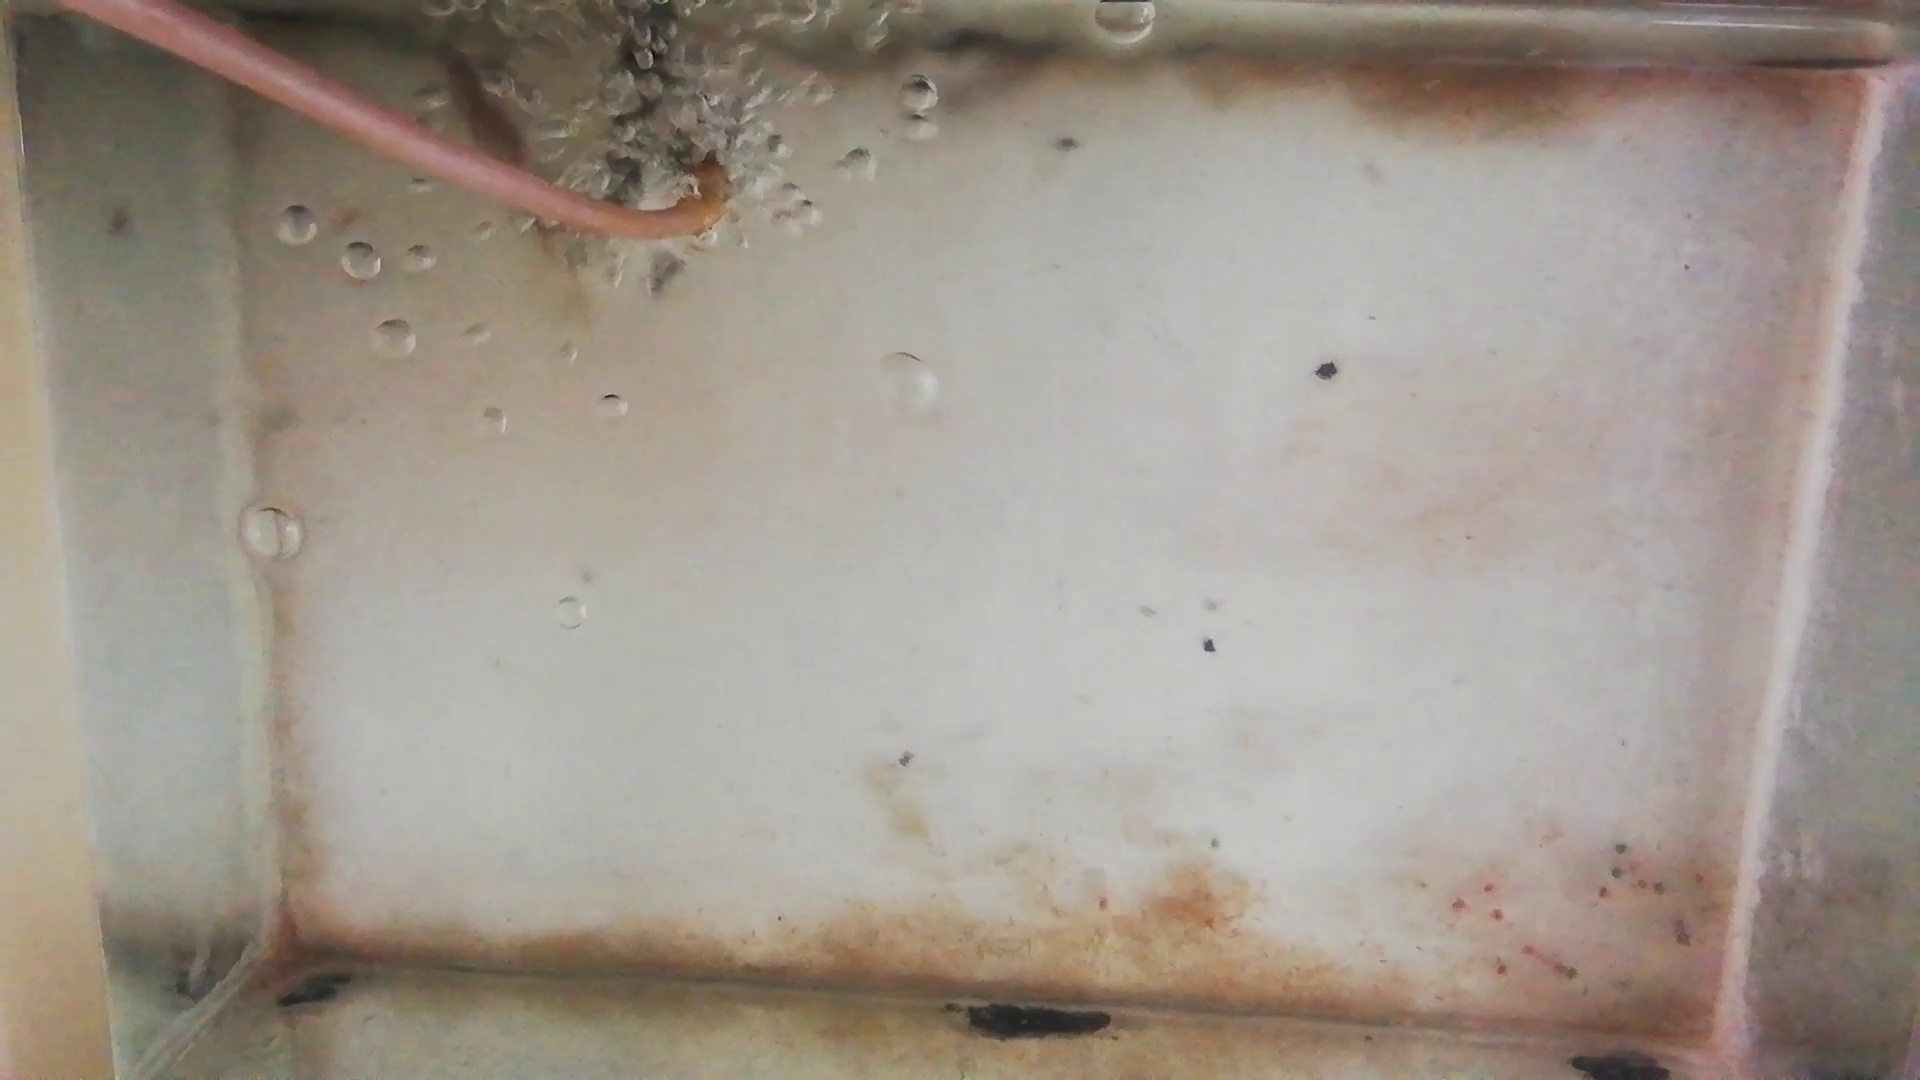fish: (425, 33, 534, 166), (605, 7, 675, 206)
